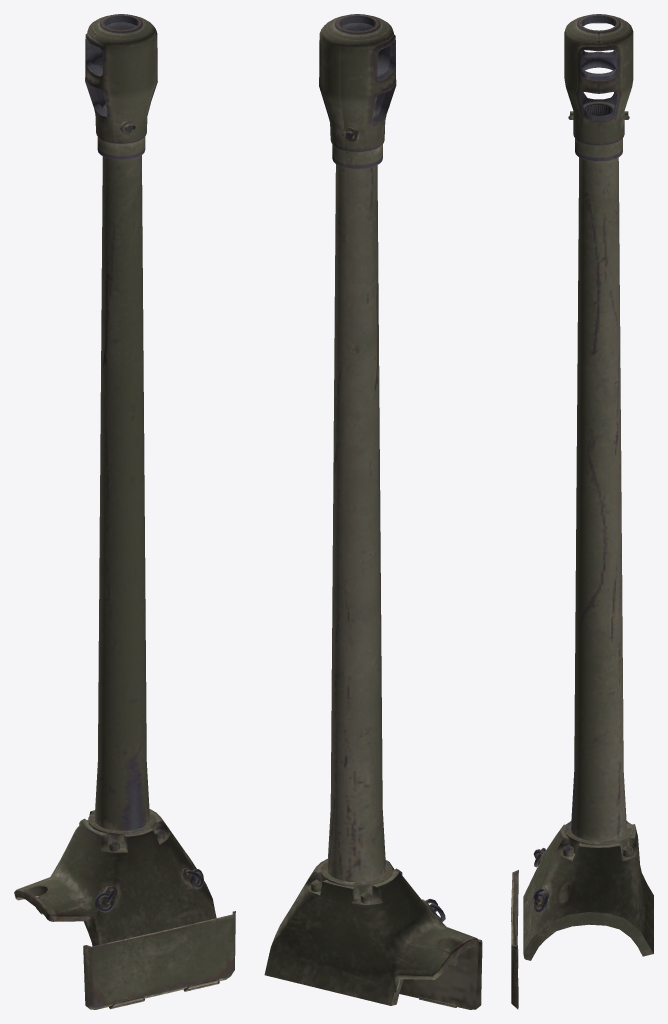
Rendered from Gun_02.glb.
3 views of the same model, side by side, from view 1: azimuth 30°, elevation 25°; view 2: azimuth 150°, elevation 25°; view 3: azimuth 270°, elevation 25° (orthographic). The views are drawn at different scales.
Parts seen in each view (by area): view 1: set_0_group_0, set_0_group_1; view 2: set_0_group_0, set_0_group_1; view 3: set_0_group_0, set_0_group_1.
Part boxes in pixels (box(x1,y1,x2,y2)): set_0_group_0: box(14, 14, 216, 945); set_0_group_1: box(83, 911, 235, 1009); set_0_group_0: box(264, 14, 478, 1005); set_0_group_1: box(399, 939, 482, 1009); set_0_group_0: box(523, 14, 653, 960); set_0_group_1: box(511, 870, 518, 1009).
Size of the model in its own units: 0.8561 by 4.61 by 0.6245.
2 materials, 2 textured.
